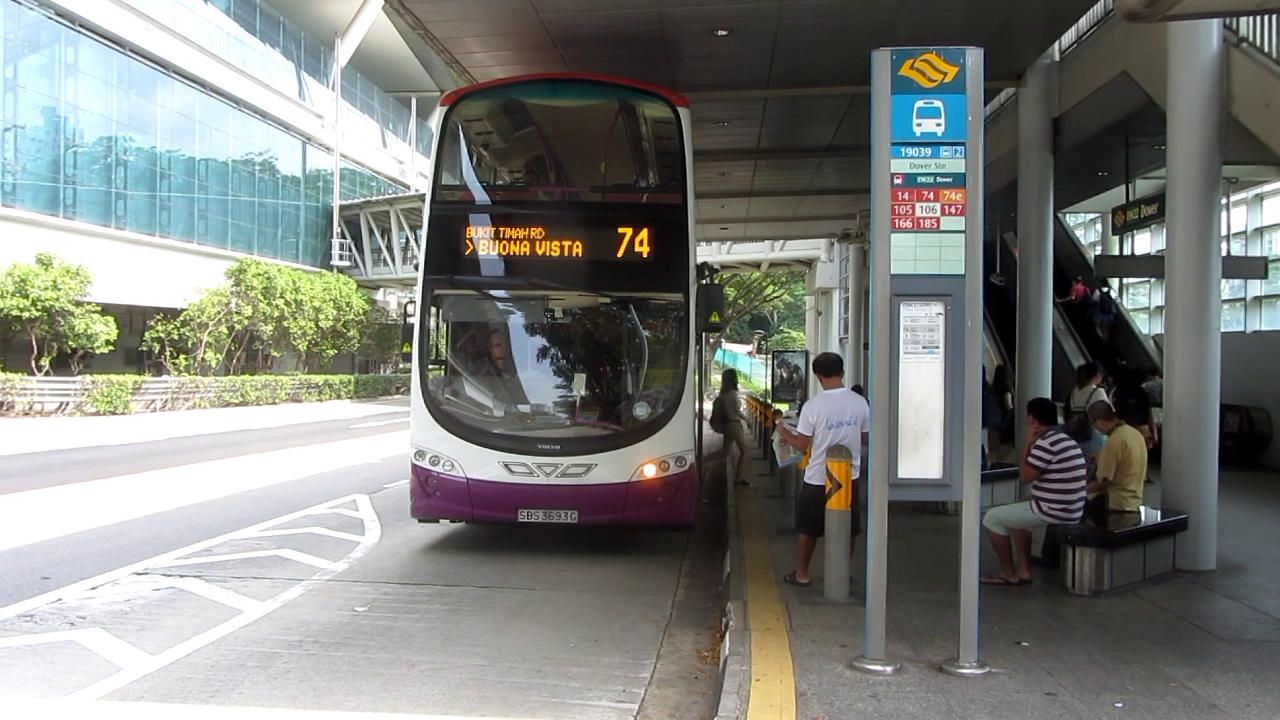bus panel: (457, 221, 658, 266)
